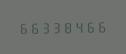eight: (61, 20, 71, 33)
four: (72, 19, 82, 33)
six: (17, 20, 27, 34), (28, 20, 38, 34), (83, 19, 93, 33), (94, 19, 104, 33)
three: (39, 20, 49, 34), (50, 20, 60, 34)
